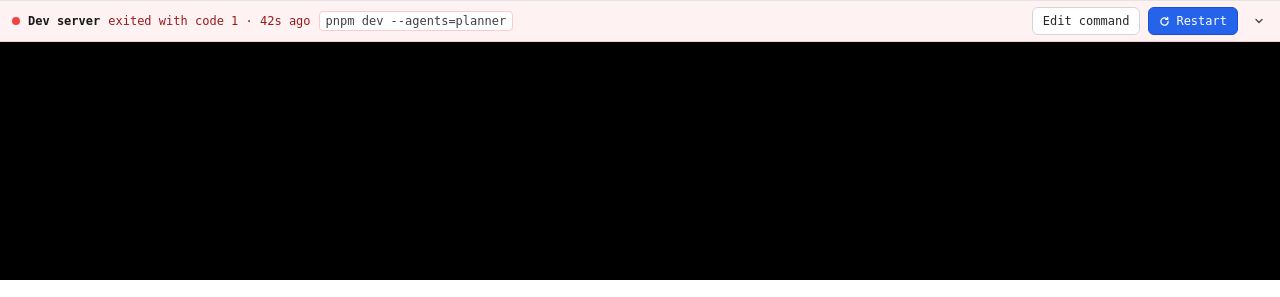
DevServerPanel › after a crash offers Restart, or editing the command first
The width and height of the screenshot is (1280, 297).
Check: the text "exited with code 1 · 42s ago" is shown, box [108,13,311,29]
Click the button "Edit command". click: (1086, 21)
box: [1032,7,1140,35]
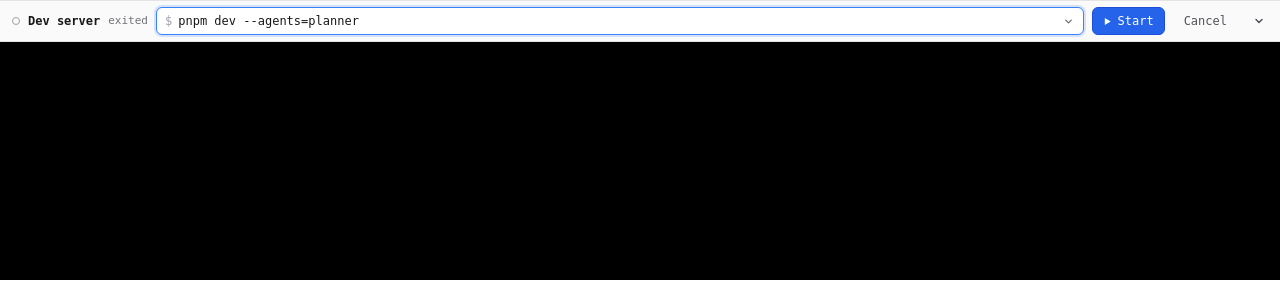
Check: the dropdown named "Dev server command" holds "pnpm dev --agents=planner", box [178,13,1050,29]
